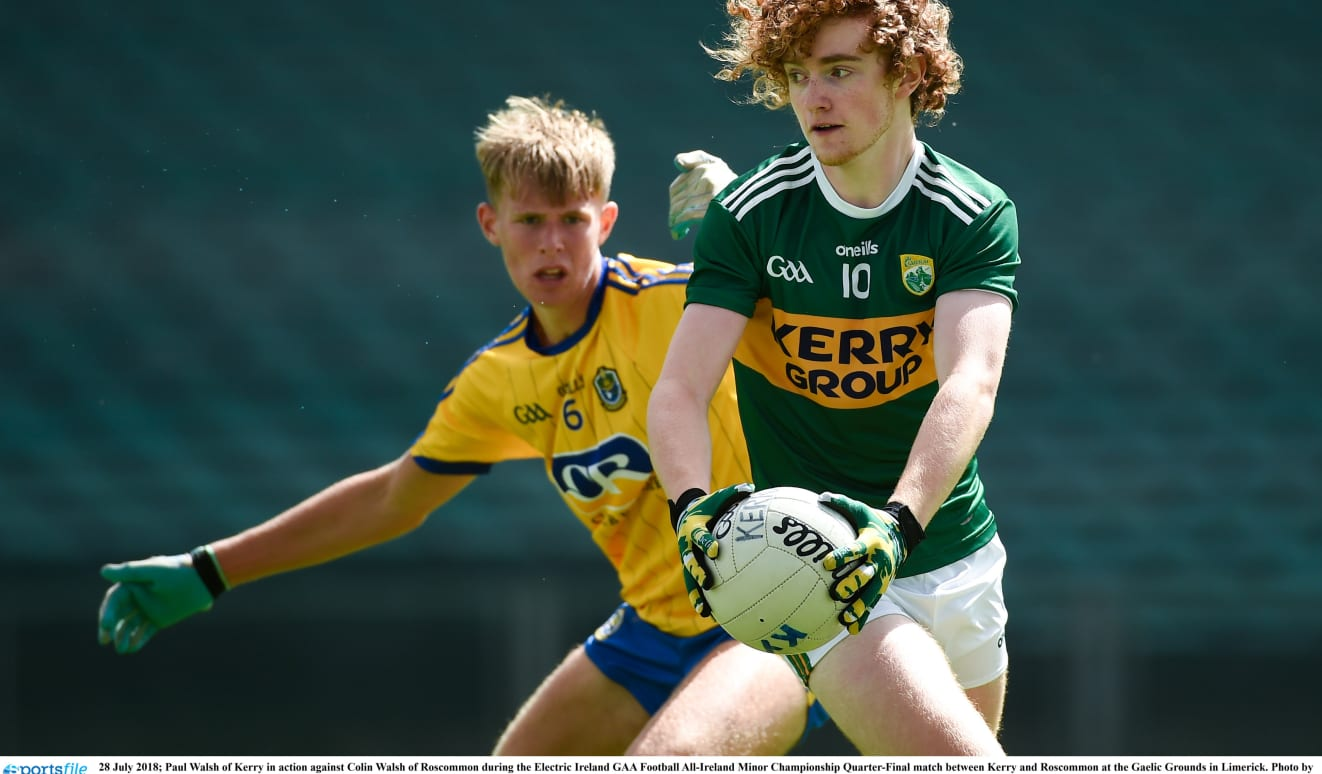ball: (703, 475, 856, 666)
player: (663, 3, 1021, 736), (407, 69, 742, 720)
